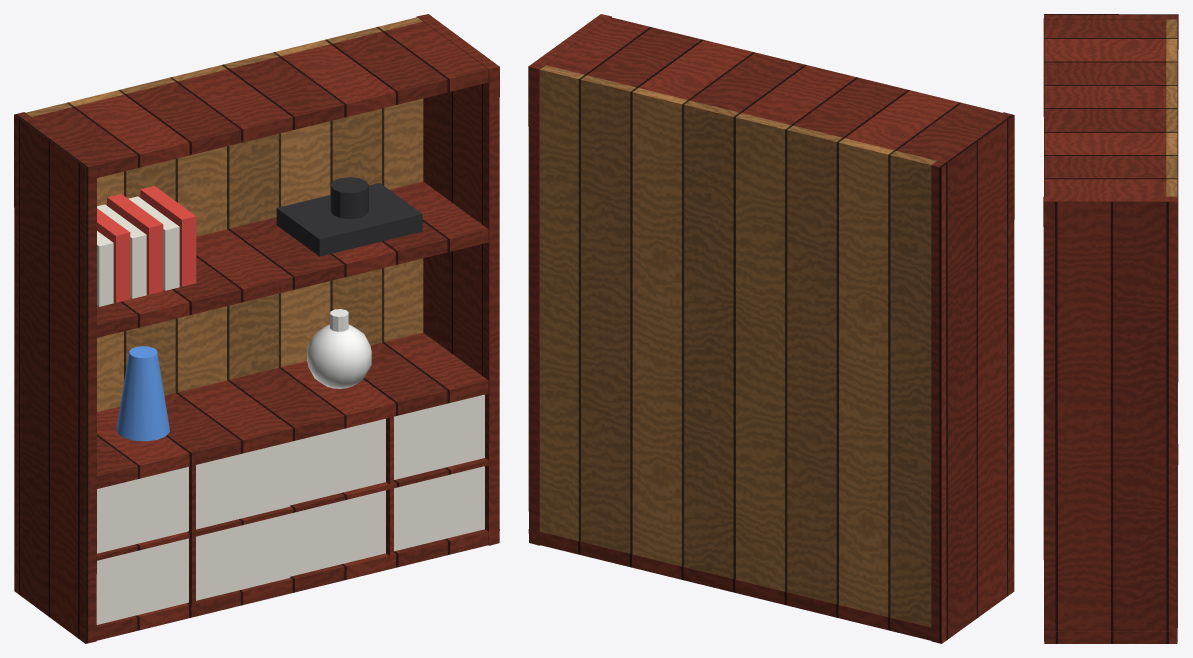
File: Shelf_Japanese.fbx
3 renders of one model, left to right at view 1: azimuth 30°, elevation 25°; view 2: azimuth 150°, elevation 25°; view 3: azimuth 270°, elevation 25°, orthographic. The views are drawn at different scales.
Parts seen in each view (by area): view 1: Shelf_Japanese; view 2: Shelf_Japanese; view 3: Shelf_Japanese.
Part boxes in pixels (bbox=[...]): Shelf_Japanese: bbox=[14, 14, 499, 643]; Shelf_Japanese: bbox=[528, 14, 1014, 643]; Shelf_Japanese: bbox=[1043, 14, 1178, 643].
Size of the model in its own units: 2.01 by 2.21 by 0.6104.
Materials: 7 (2 with a texture image).
